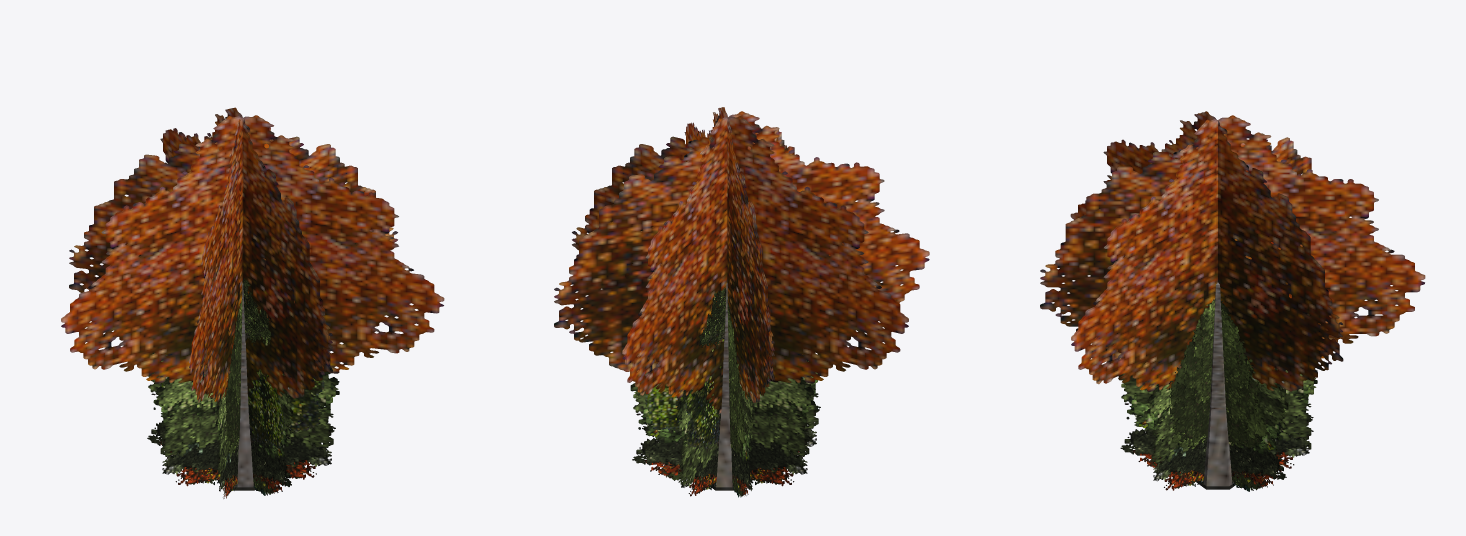
Rendered from tree-pack.glb.
3 renders of one model, left to right at view 1: azimuth 30°, elevation 25°; view 2: azimuth 150°, elevation 25°; view 3: azimuth 270°, elevation 25°, orthographic.
Parts seen in each view (by area): view 1: tree34, tree22, bush02, tree20, tree18, bush07, tree26, tree23; view 2: tree34, tree22, bush02, tree20, tree18, bush07, tree26, tree23, tree24; view 3: tree34, tree18, tree22, bush02, tree25, bush07, tree23, tree24.
Part boxes in pixels (x1=…): tree34: x1=61, y1=107, x2=444, y2=487; tree22: x1=148, y1=352, x2=338, y2=474; bush02: x1=147, y1=420, x2=331, y2=491; tree20: x1=160, y1=369, x2=324, y2=448; tree18: x1=225, y1=299, x2=242, y2=451; bush07: x1=159, y1=441, x2=326, y2=498; tree26: x1=243, y1=278, x2=271, y2=346; tree23: x1=154, y1=371, x2=339, y2=454; tree34: x1=554, y1=107, x2=929, y2=487; tree22: x1=630, y1=361, x2=820, y2=486; bush02: x1=632, y1=423, x2=816, y2=490; tree20: x1=645, y1=339, x2=807, y2=449; tree18: x1=727, y1=300, x2=743, y2=453; bush07: x1=644, y1=429, x2=811, y2=496; tree26: x1=699, y1=287, x2=726, y2=348; tree23: x1=639, y1=376, x2=815, y2=456; tree24: x1=638, y1=377, x2=817, y2=461; tree34: x1=1040, y1=111, x2=1425, y2=486; tree18: x1=1158, y1=299, x2=1285, y2=449; tree22: x1=1118, y1=368, x2=1316, y2=464; bush02: x1=1120, y1=414, x2=1309, y2=481; tree25: x1=1148, y1=312, x2=1284, y2=448; bush07: x1=1133, y1=438, x2=1304, y2=490; tree23: x1=1127, y1=368, x2=1317, y2=448; tree24: x1=1127, y1=385, x2=1312, y2=454.
Bounding box in the file's own units: 28.8 × 25 × 28.8.
1 material, 1 textured.
